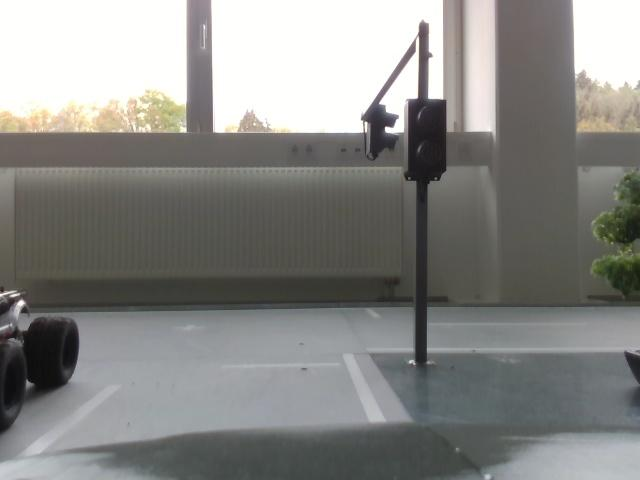car: (2, 287, 89, 418)
potted plant: (587, 168, 640, 306)
traffic light: (402, 100, 455, 188), (364, 103, 396, 161)
